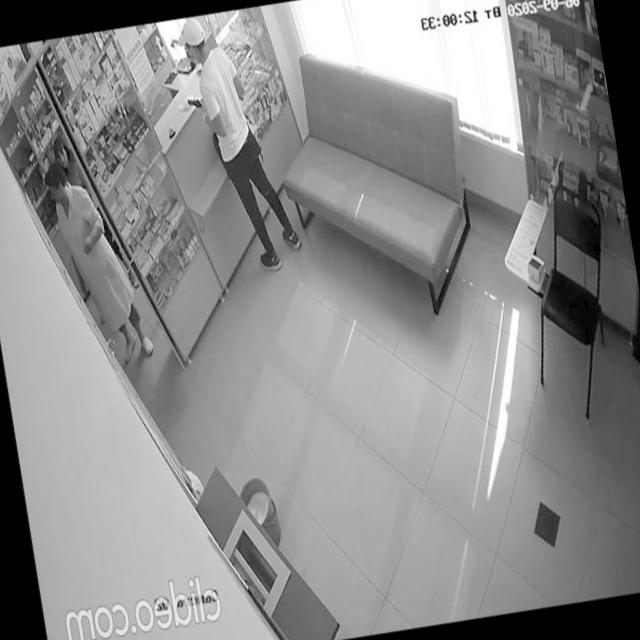gun: (186, 95, 203, 112)
person: (41, 152, 156, 378)
person with a gun: (172, 5, 305, 282)
